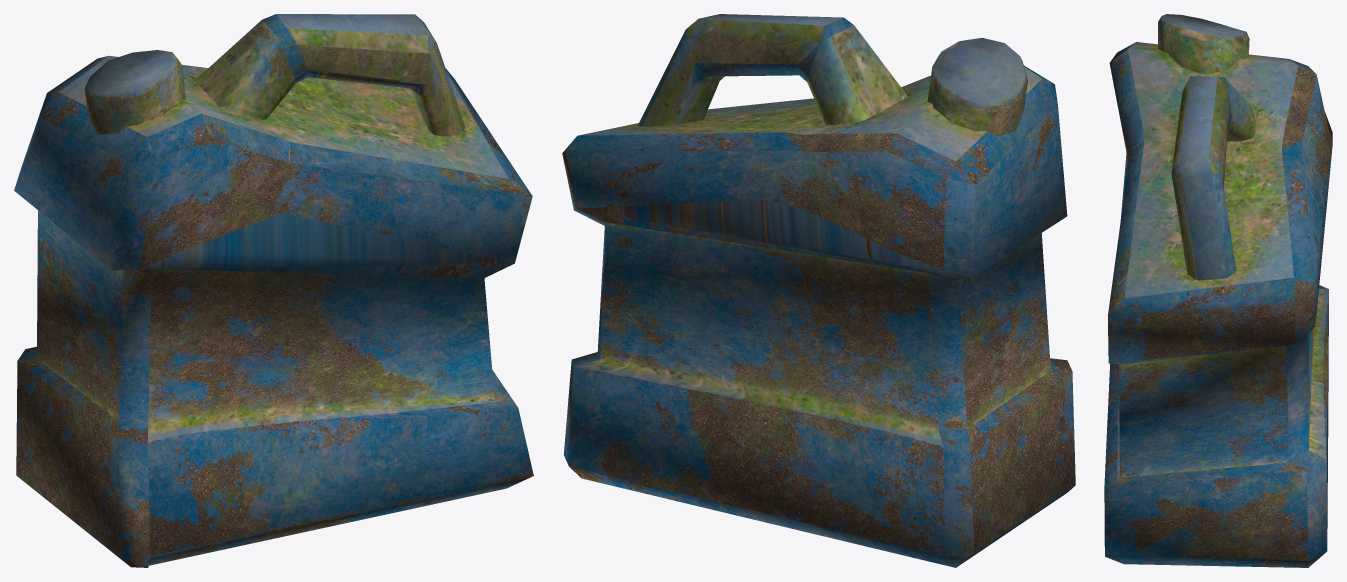
Rendered from Gas_Can_broken_1.fbx.
The picture shows the model from 3 angles, left to right: view 1: azimuth 30°, elevation 25°; view 2: azimuth 150°, elevation 25°; view 3: azimuth 270°, elevation 25°; orthographic projection. The views are drawn at different scales.
Visible parts, largest first — view 1: Gas_Can_broken_LOD0; view 2: Gas_Can_broken_LOD0; view 3: Gas_Can_broken_LOD0.
Part boxes in pixels (x1,y1,x2,y2): Gas_Can_broken_LOD0: [14, 14, 533, 567]; Gas_Can_broken_LOD0: [562, 14, 1075, 567]; Gas_Can_broken_LOD0: [1104, 14, 1332, 567].
Size of what is drawn, in the model's own units: 75.02 by 79.6 by 39.84.
